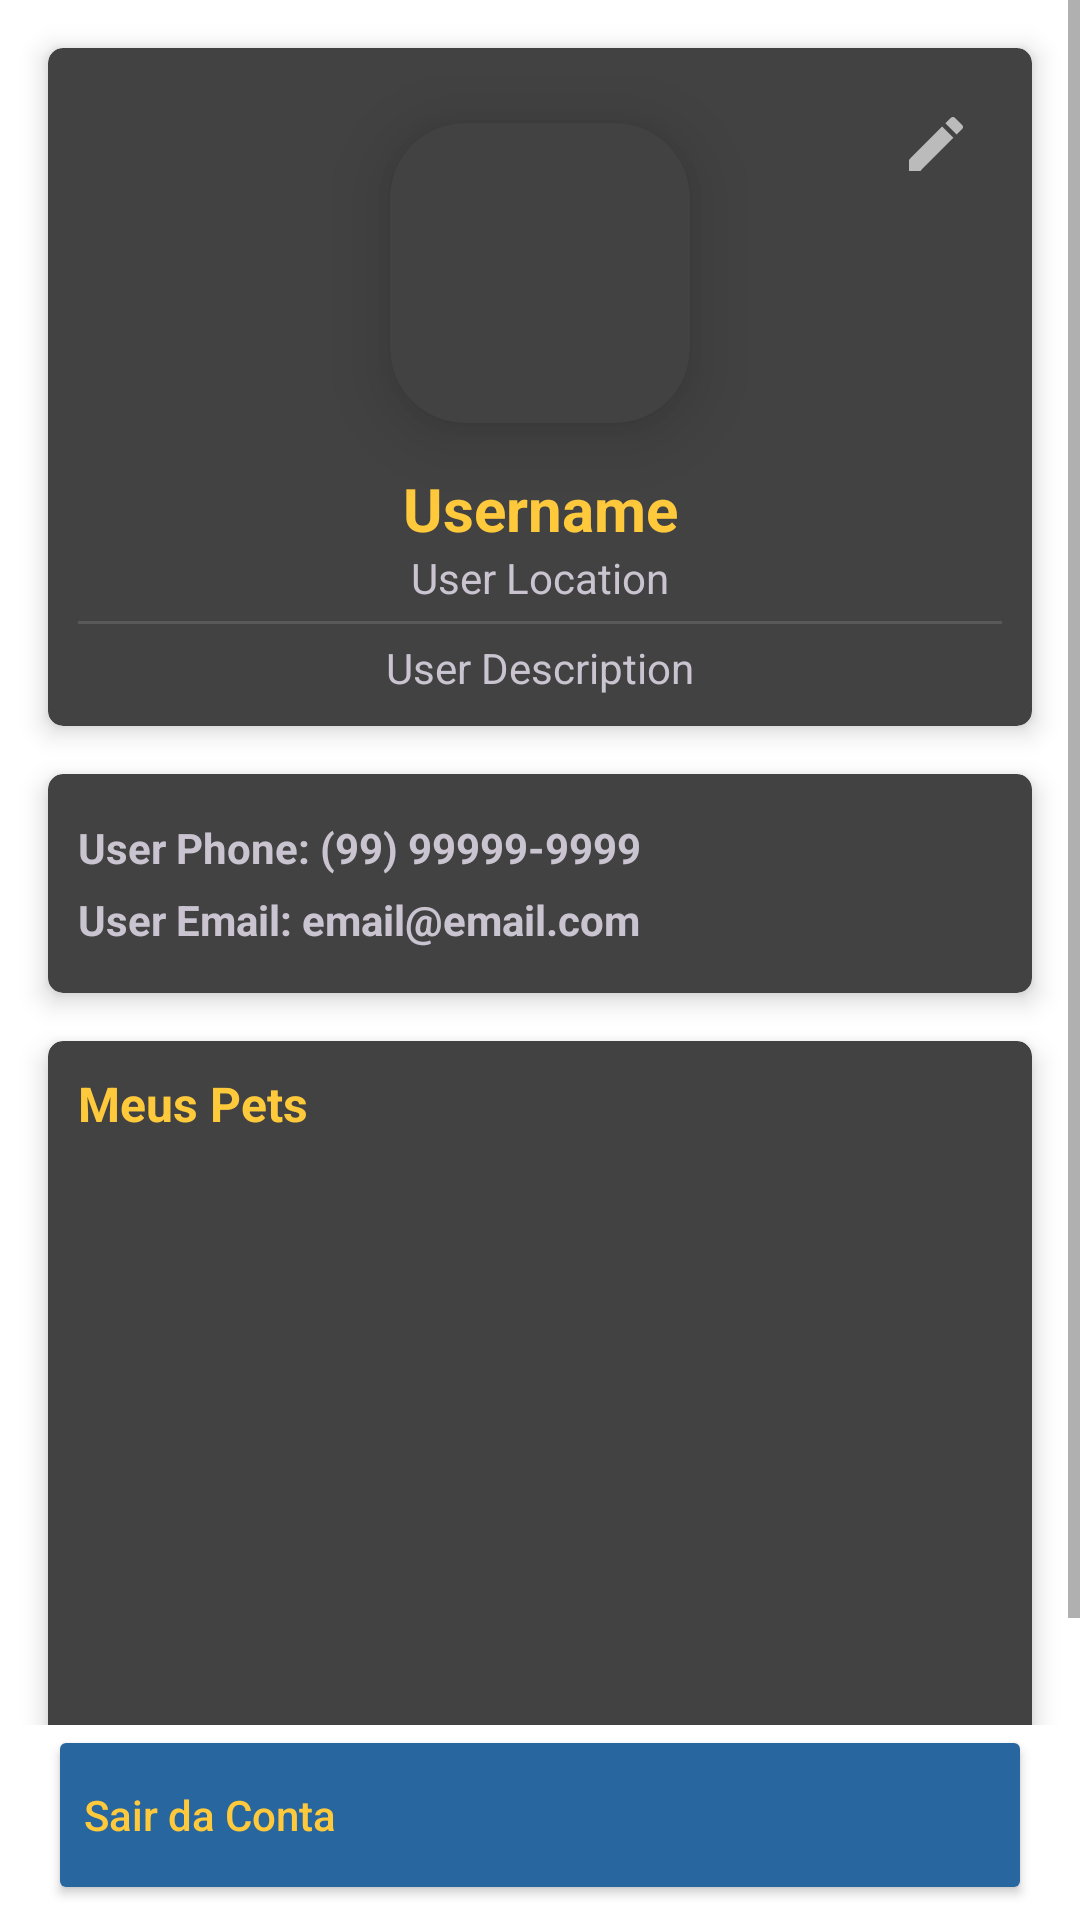

Named icons in this screenshot (1080x1920) and their centers, [x,y]:
Editar Informações do Usuário: [936,144]
